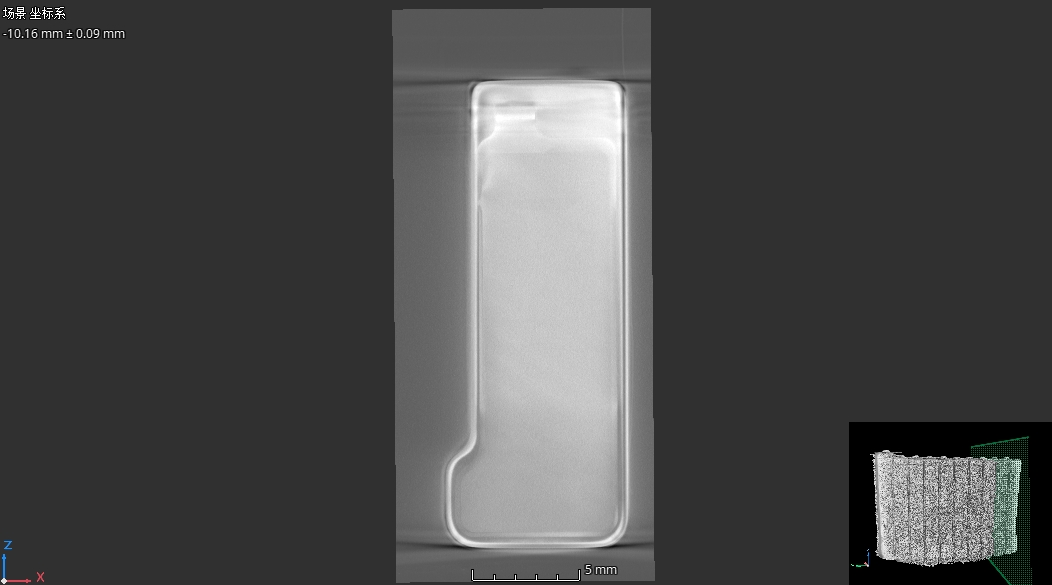damage: (475, 172, 487, 304)
